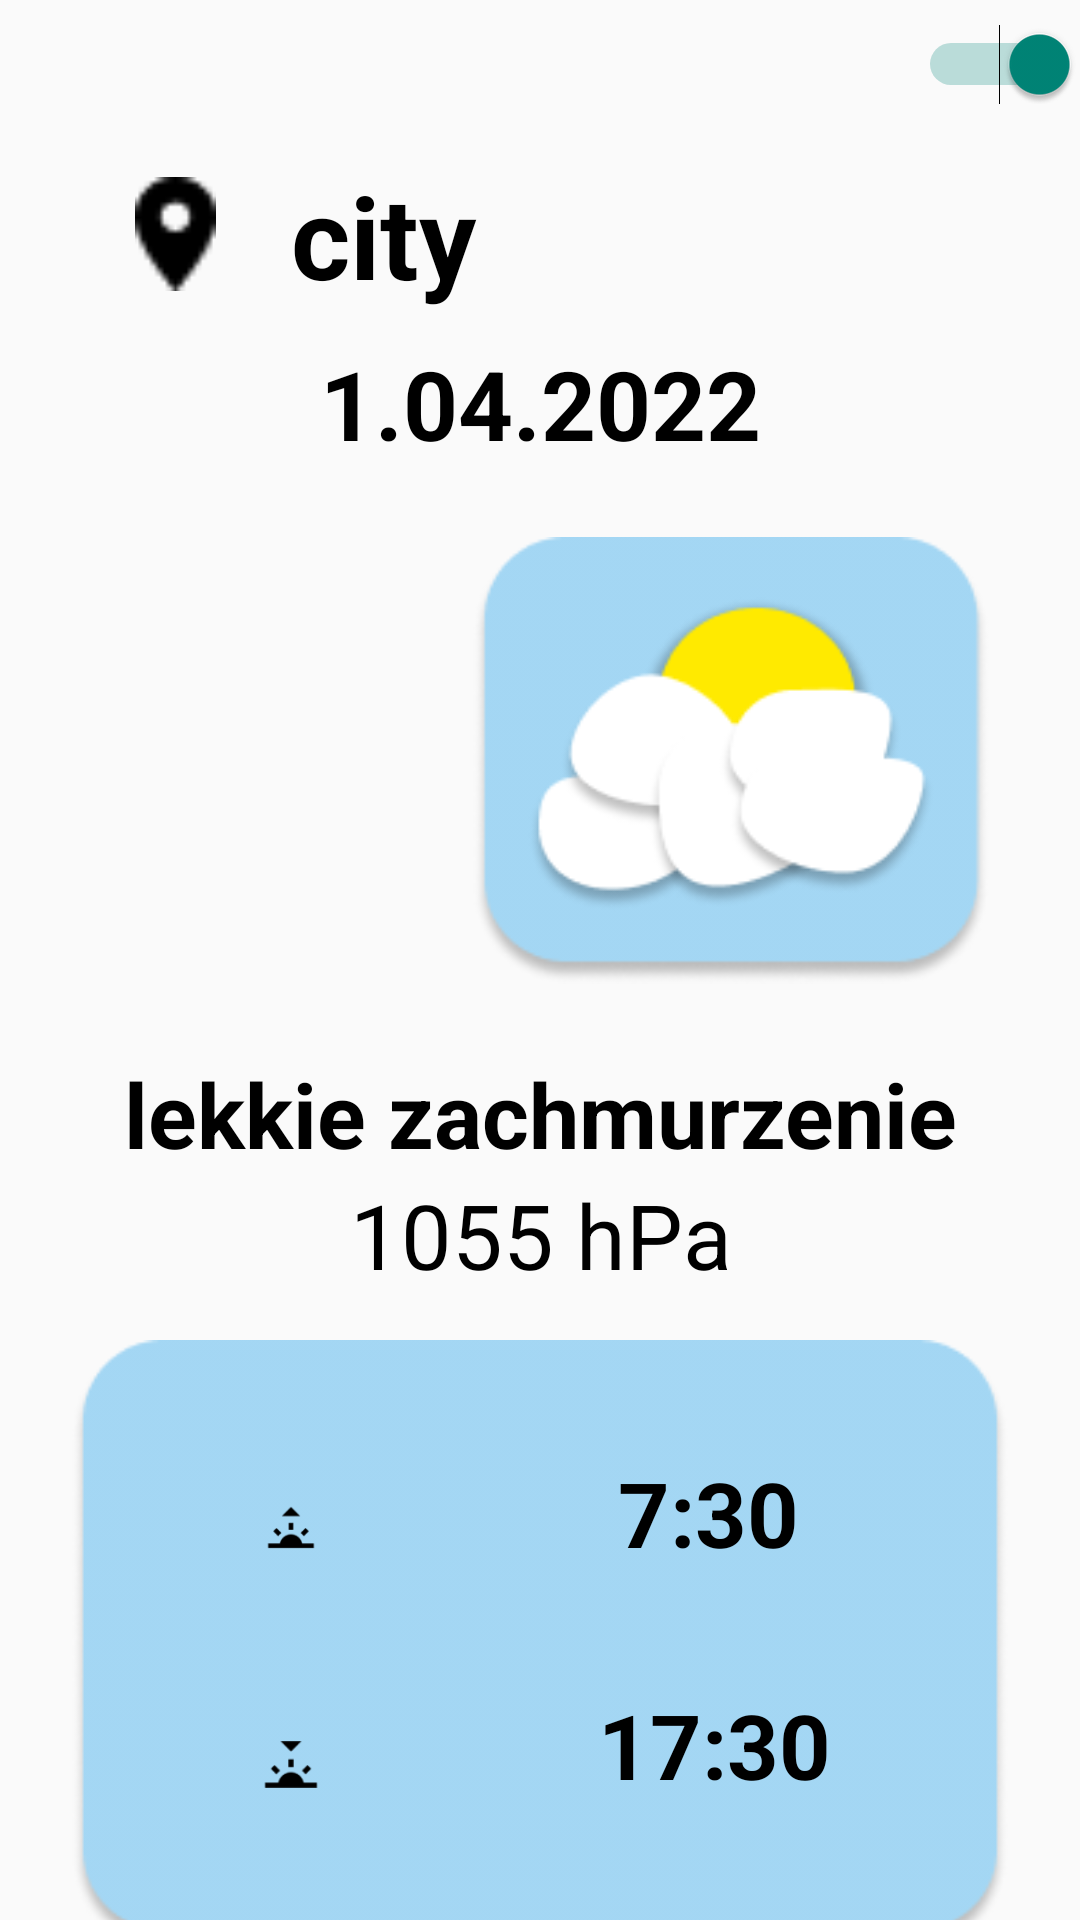

Where to tap for icons on this 1080*1920 app screen, as point (x, y):
localization: point (175, 234)
sunrise: point (291, 1528)
sunset: point (291, 1764)
